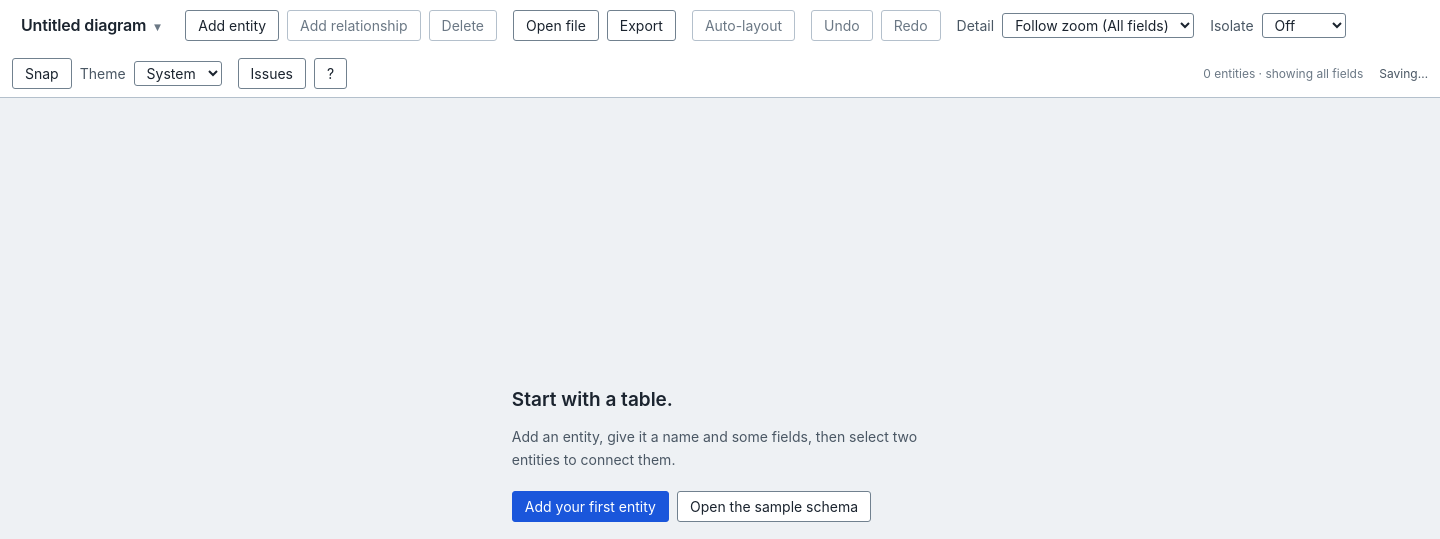
Test: diagram menu › keeps the diagram when the deletion is declined
Expected: the text "Start with a table." is shown, [512, 386, 673, 414]
Click the button "Untitled diagram ▾".
click(91, 25)  # box [12, 8, 169, 42]
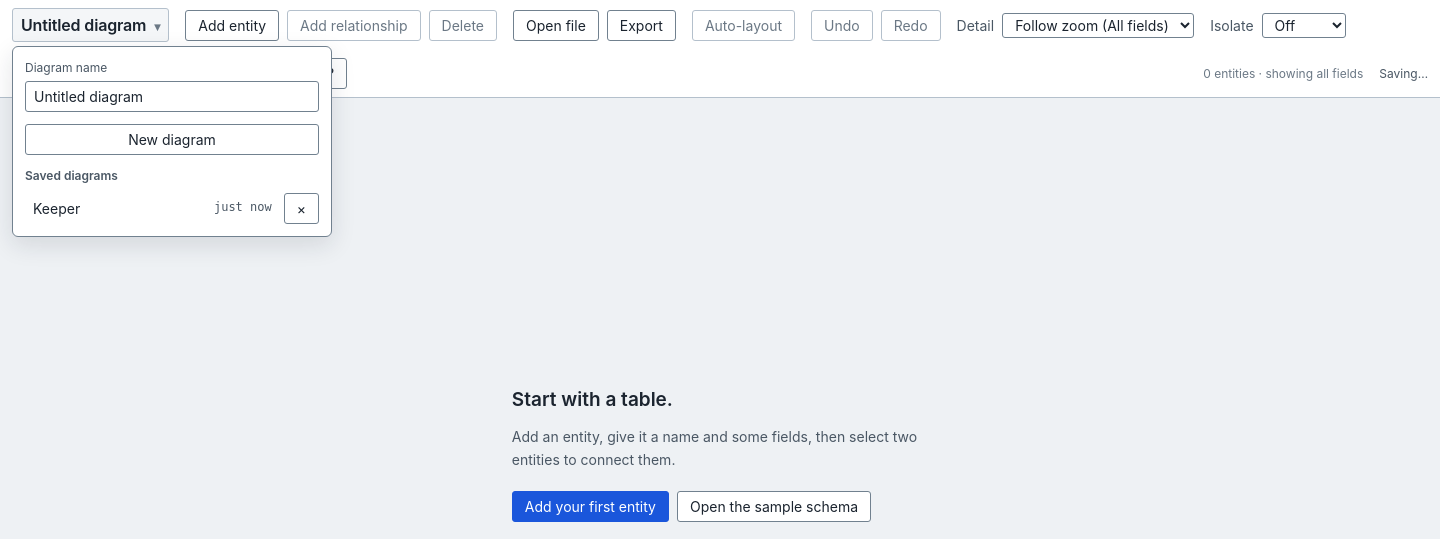
Expected: the button "Keeper just now" is shown, [25, 194, 280, 223]
Click the button named "Delete Keeper".
click(301, 208)  # box [284, 193, 319, 224]
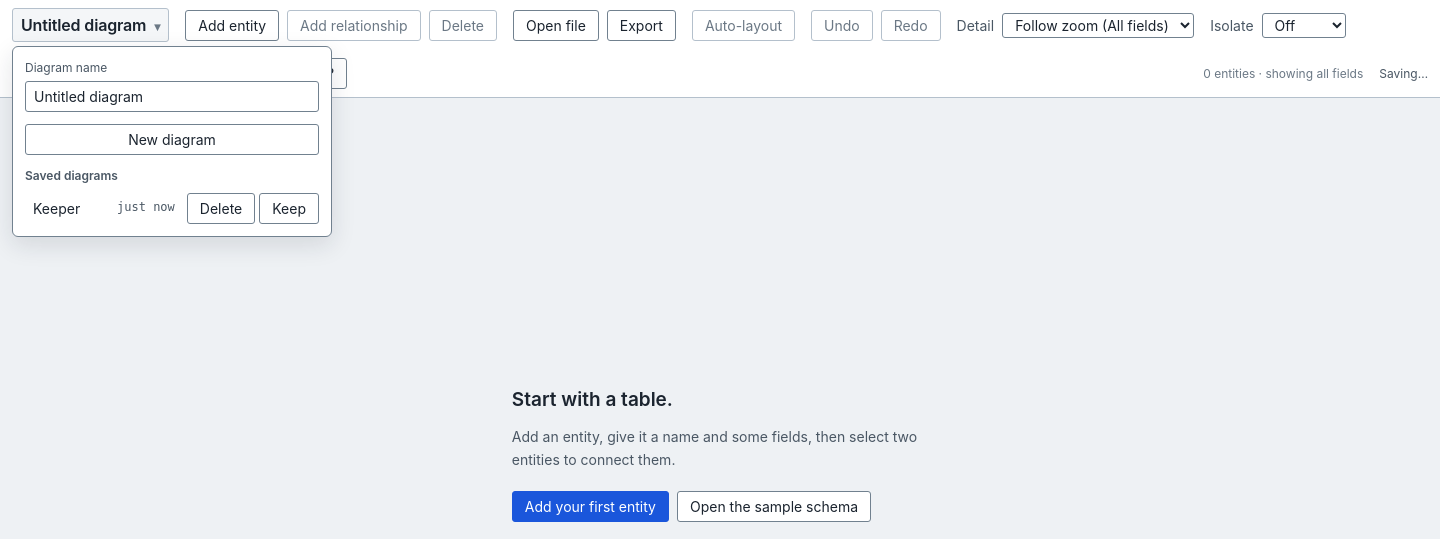
Click the button with aria-label "Keep Keeper".
click(289, 208)  # box [259, 193, 319, 224]
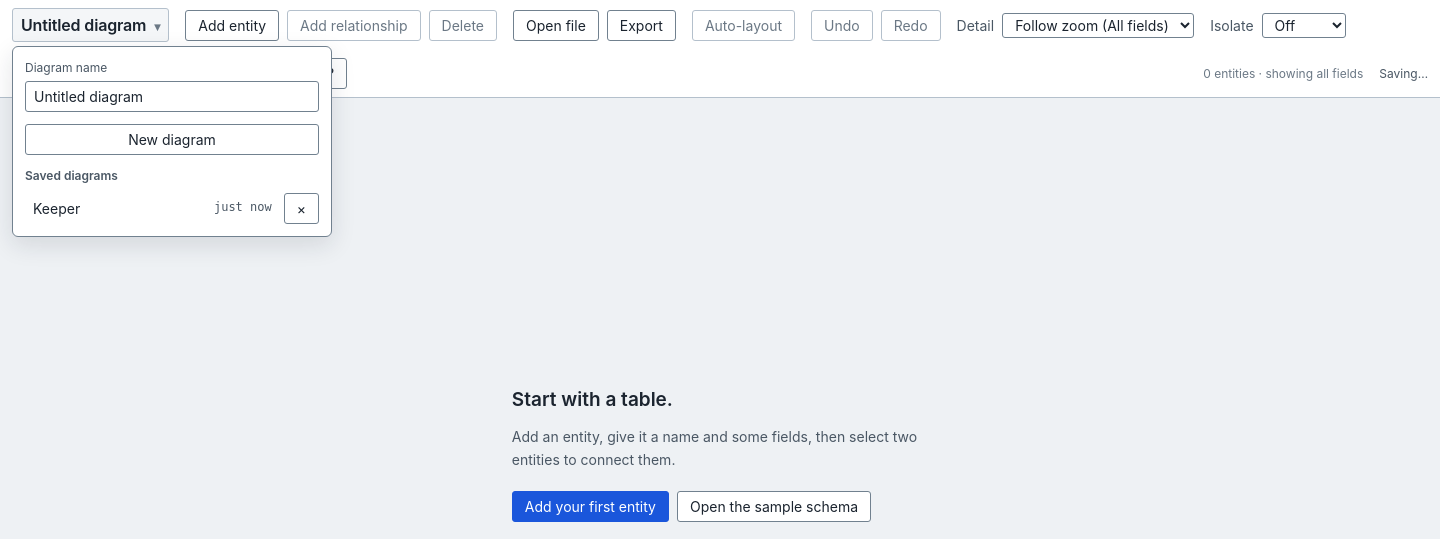
Expected: the button "Keeper just now" is shown, [25, 194, 280, 223]
Expected: the button named "Delete Keeper" is shown, [284, 193, 319, 224]
